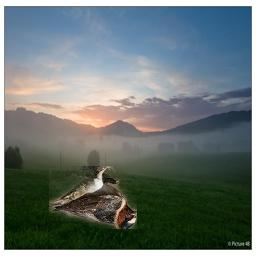Swallow: (49, 167, 137, 230)
